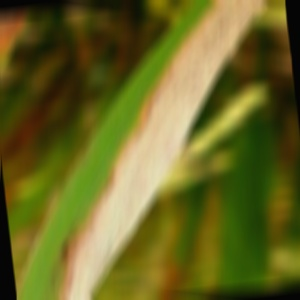Leaf_Blast: (25, 118, 154, 300)
